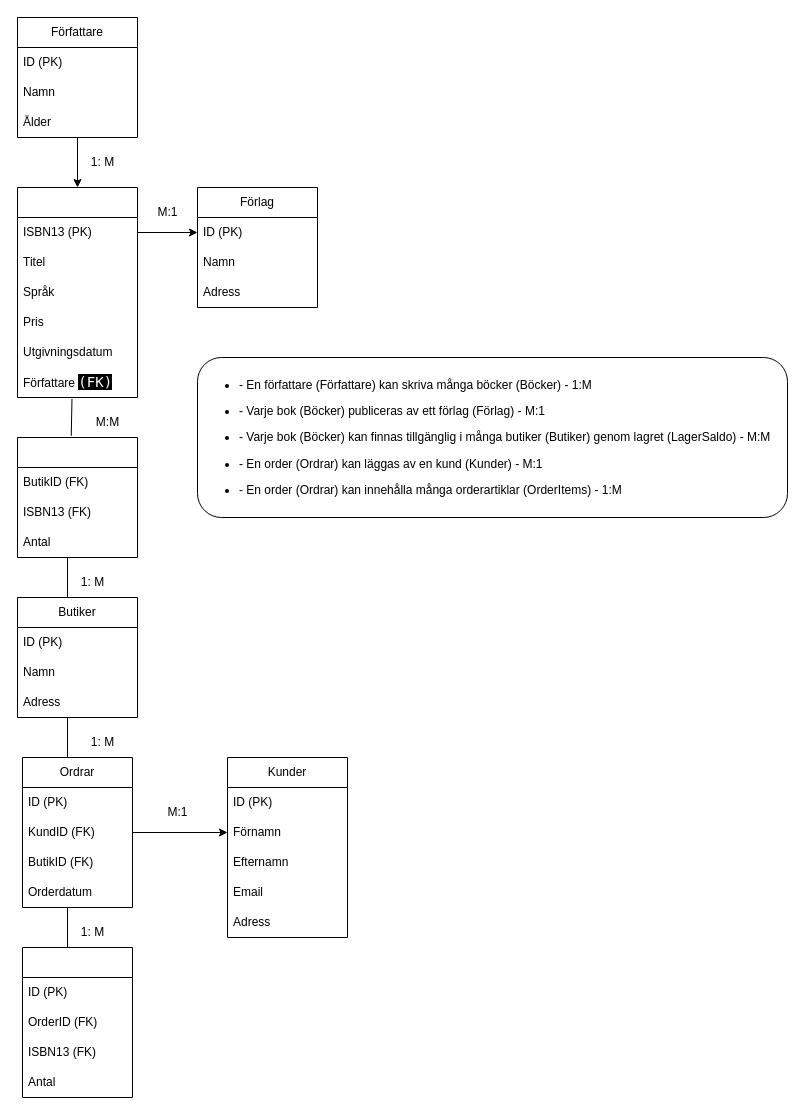
This 805x1115 diagram has some shape labels left out. Each missing label, with the box of its shape:
Böcker: (16, 186, 138, 398)
LagerSaldo: (16, 436, 138, 558)
OrderItems: (22, 946, 132, 1098)
